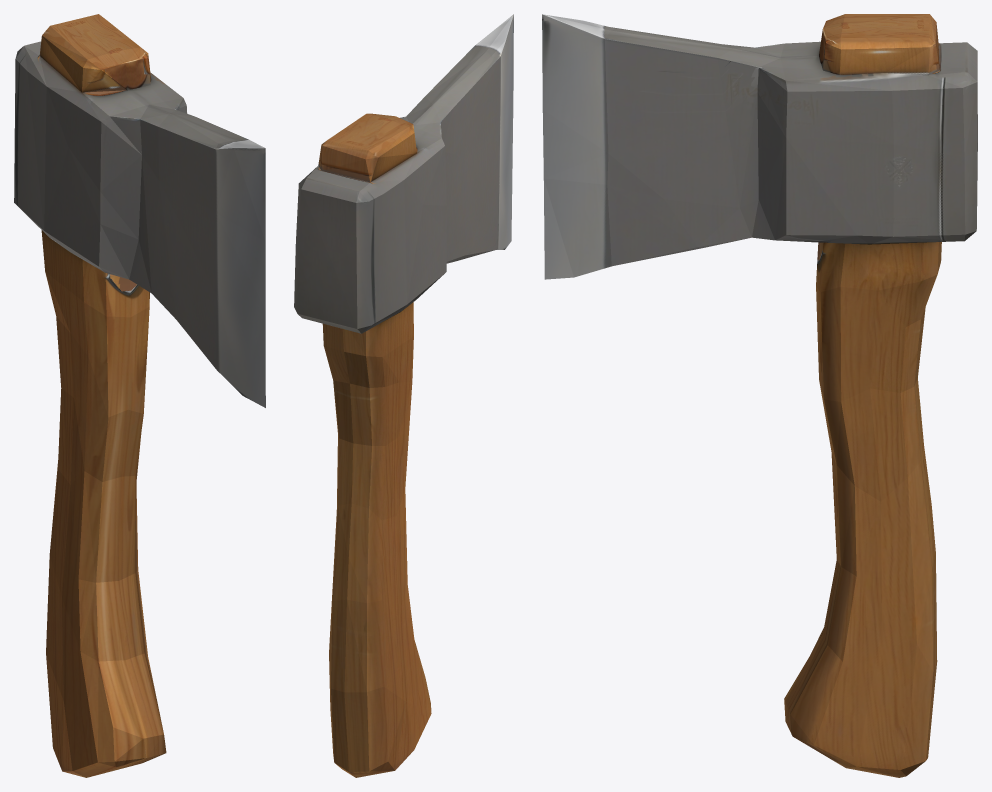
File: Hatchet_Icon_0618222701_texture.fbx
3 views of the same model, side by side, from view 1: azimuth 30°, elevation 25°; view 2: azimuth 150°, elevation 25°; view 3: azimuth 270°, elevation 25° (orthographic). The views are drawn at different scales.
Parts seen in each view (by area): view 1: temp; view 2: temp; view 3: temp.
Boxes of the visible parts, x1=… form: temp: x1=14, y1=14, x2=265, y2=777; temp: x1=294, y1=14, x2=513, y2=777; temp: x1=542, y1=14, x2=977, y2=777.
Bounding box in the file's own units: 27.69 × 200 × 105.
1 material, 1 textured.
